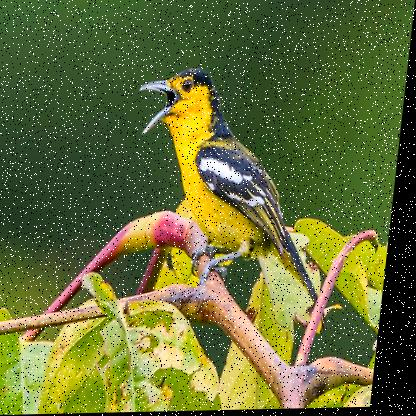Burung: (121, 64, 361, 334)
